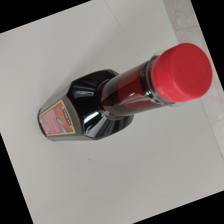Namngu: (37, 42, 212, 142)
